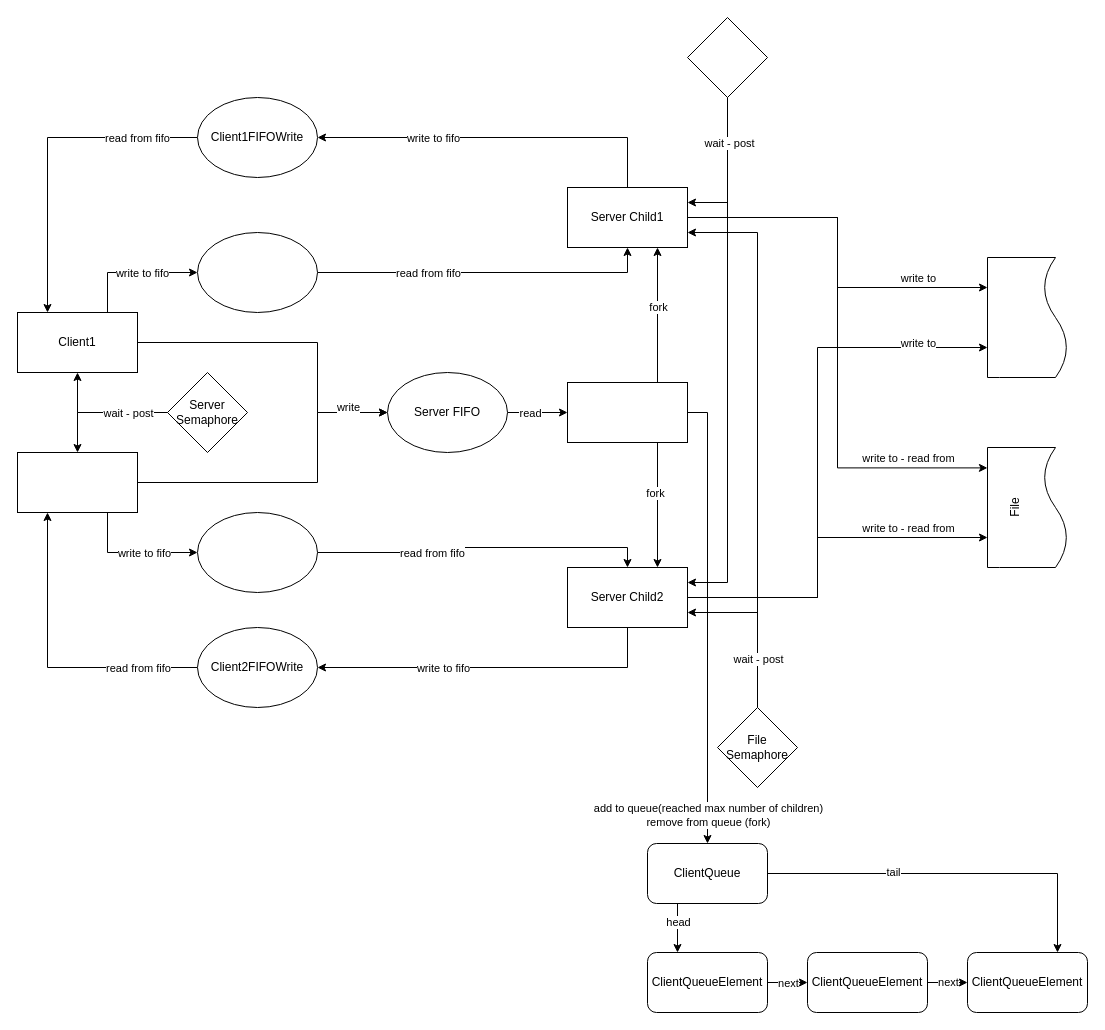
Some shapes in this 1105 by 1030 pixel diagram are drawn without their labels. The centre of each missing label's shape, as x and y in pixels:
Client1FIFORead: point (257, 272)
Client2: point (77, 482)
Client2FIFORead: point (257, 552)
Logger: point (1027, 317)
Logger Semaphore: point (727, 57)
Server: point (627, 412)
